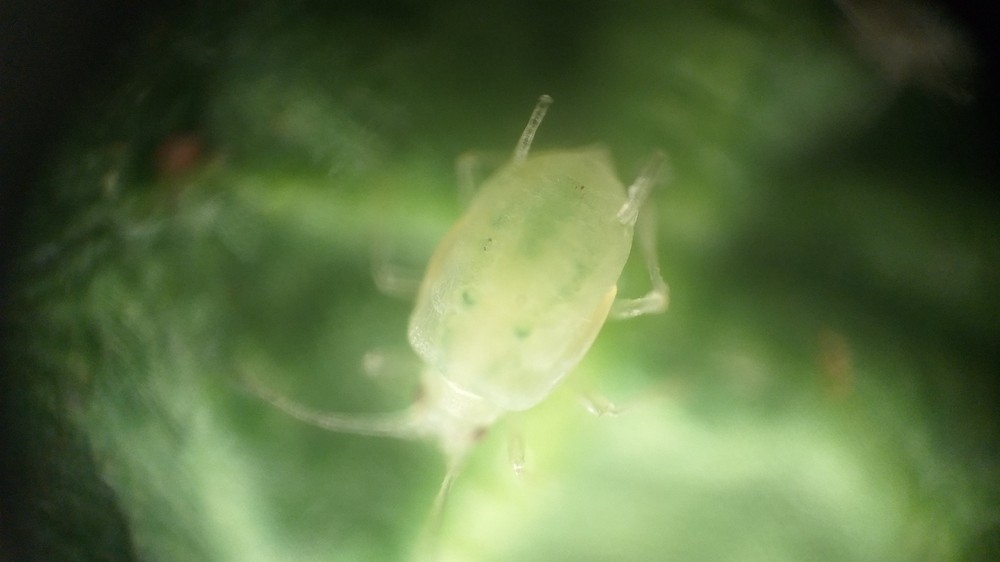Pulgon: (255, 80, 740, 554)
